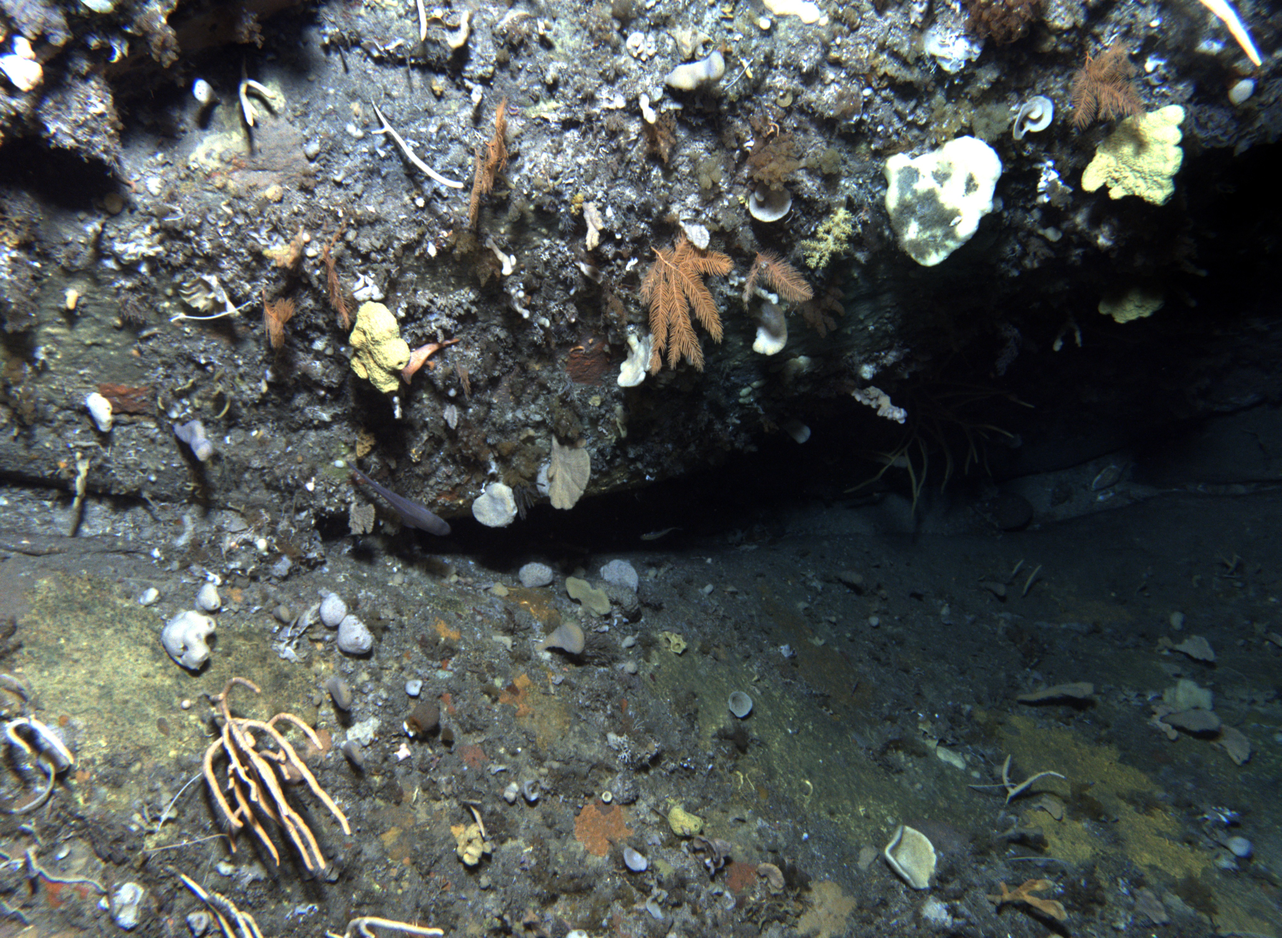Brachionichthyidae: (400, 336, 462, 386)
